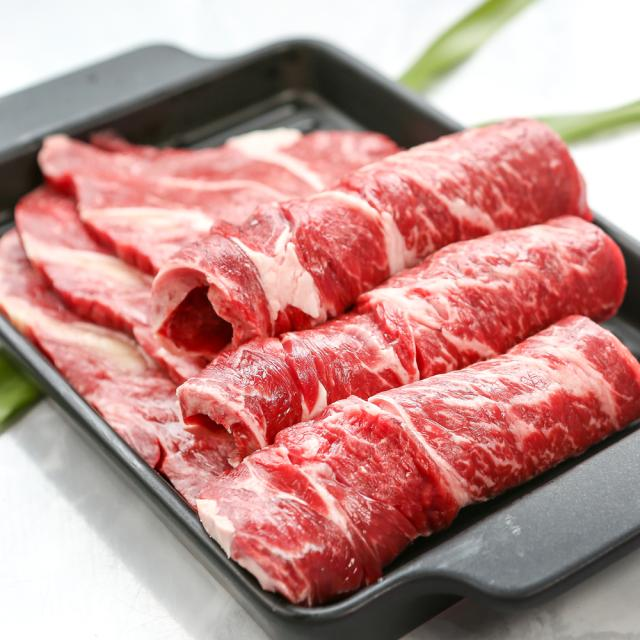beef: (272, 211, 472, 436)
